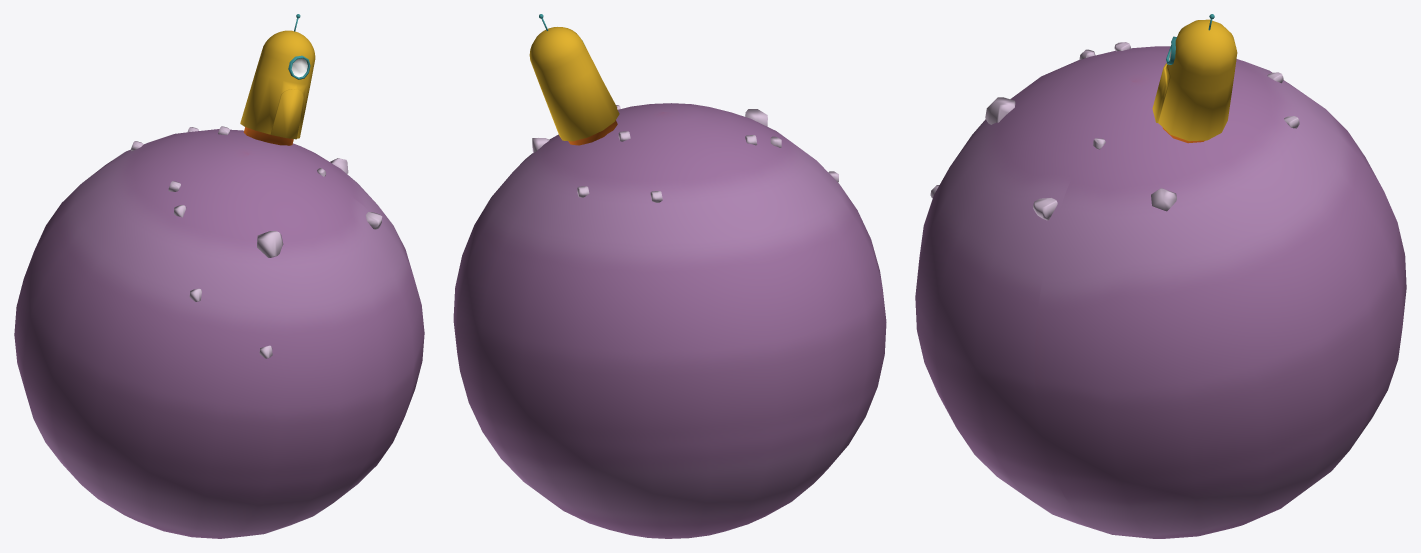
File: satellite.gltf
3 views of the same model, side by side, from view 1: azimuth 30°, elevation 25°; view 2: azimuth 150°, elevation 25°; view 3: azimuth 270°, elevation 25° (orthographic). The views are drawn at different scales.
Visible parts, largest first — view 1: Satellite, rocket; view 2: Satellite, rocket; view 3: Satellite, rocket.
Boxes of the visible parts, x1=… form: Satellite: x1=14, y1=126, x2=424, y2=538; rocket: x1=240, y1=14, x2=315, y2=145; Satellite: x1=453, y1=103, x2=886, y2=538; rocket: x1=529, y1=14, x2=619, y2=145; Satellite: x1=915, y1=42, x2=1406, y2=538; rocket: x1=1152, y1=14, x2=1237, y2=143.
Bounding box in the file's own units: 9.48 × 11.94 × 9.47.
2 materials, 2 textured.
